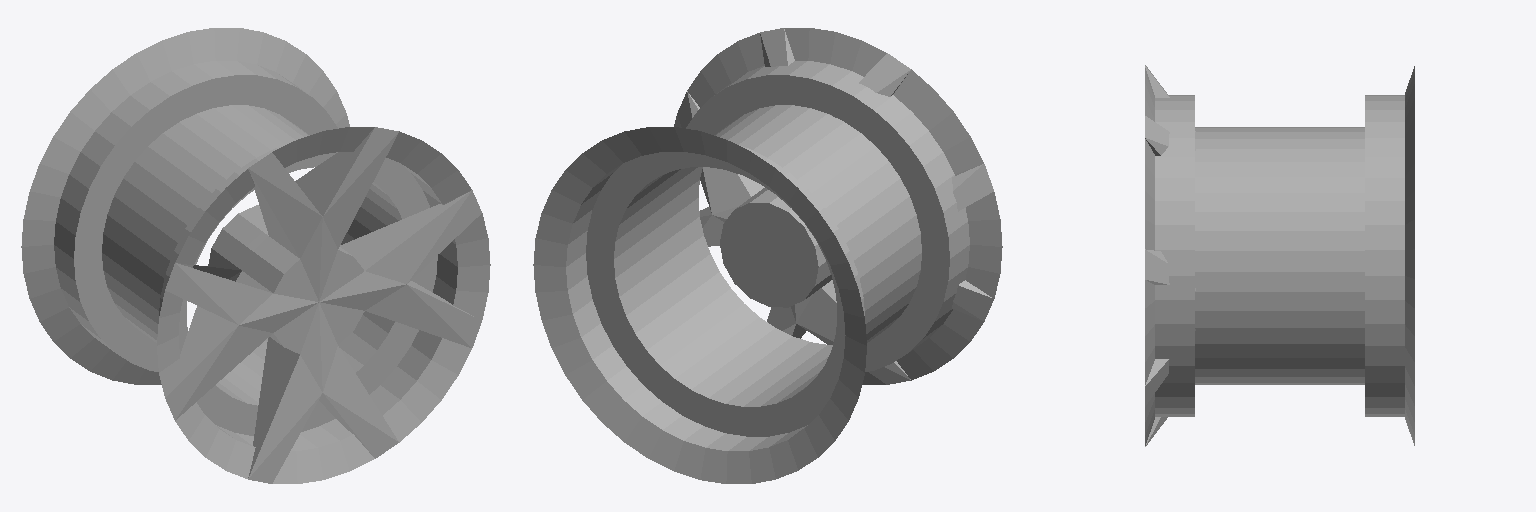
Rendered from Split.obj.
3 renders of one model, left to right at view 1: azimuth 30°, elevation 25°; view 2: azimuth 150°, elevation 25°; view 3: azimuth 270°, elevation 25°, orthographic.
Size of the model in its own units: 2.02 by 2.02 by 1.42.